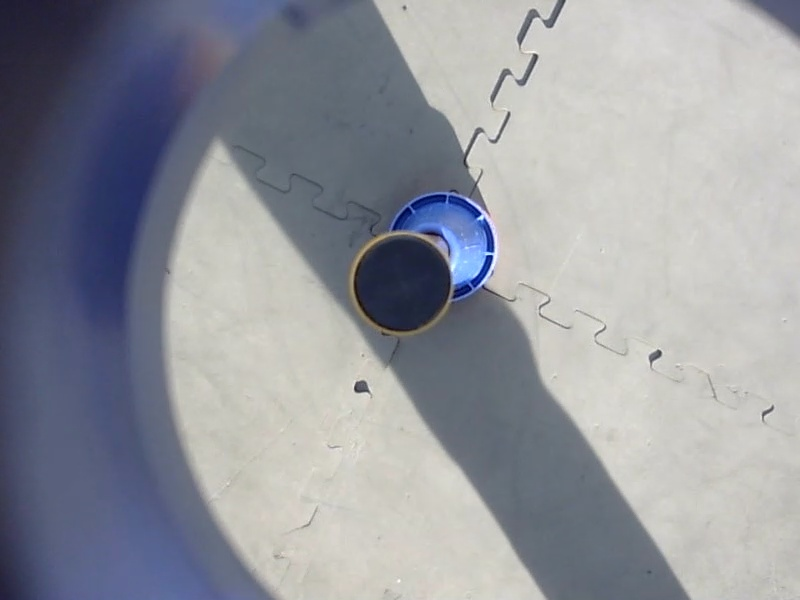tip: (342, 227, 460, 343)
